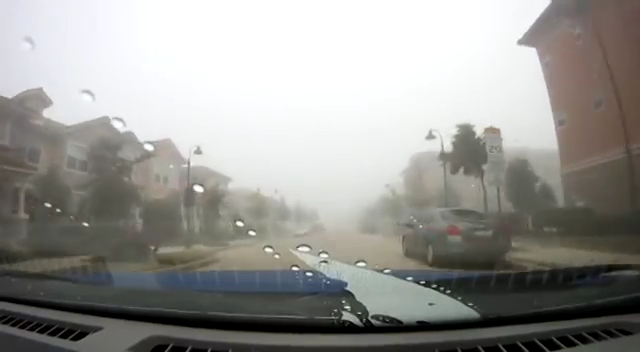car: (401, 208, 514, 266)
